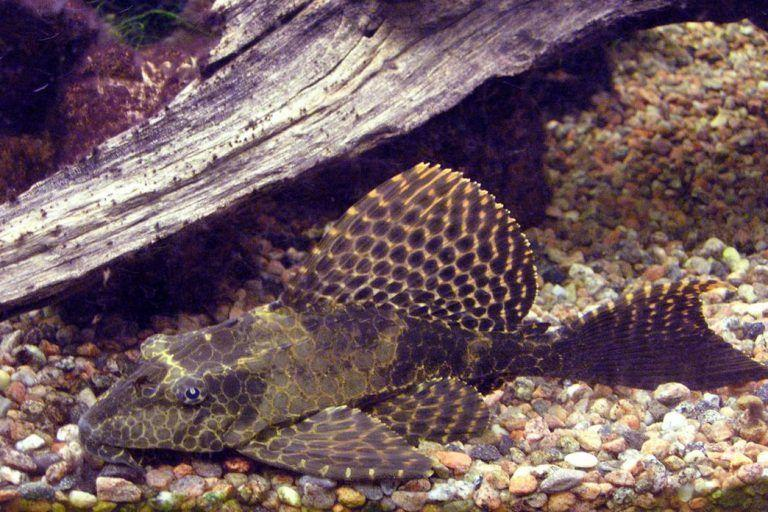Janitor Fish: (73, 168, 765, 489)
